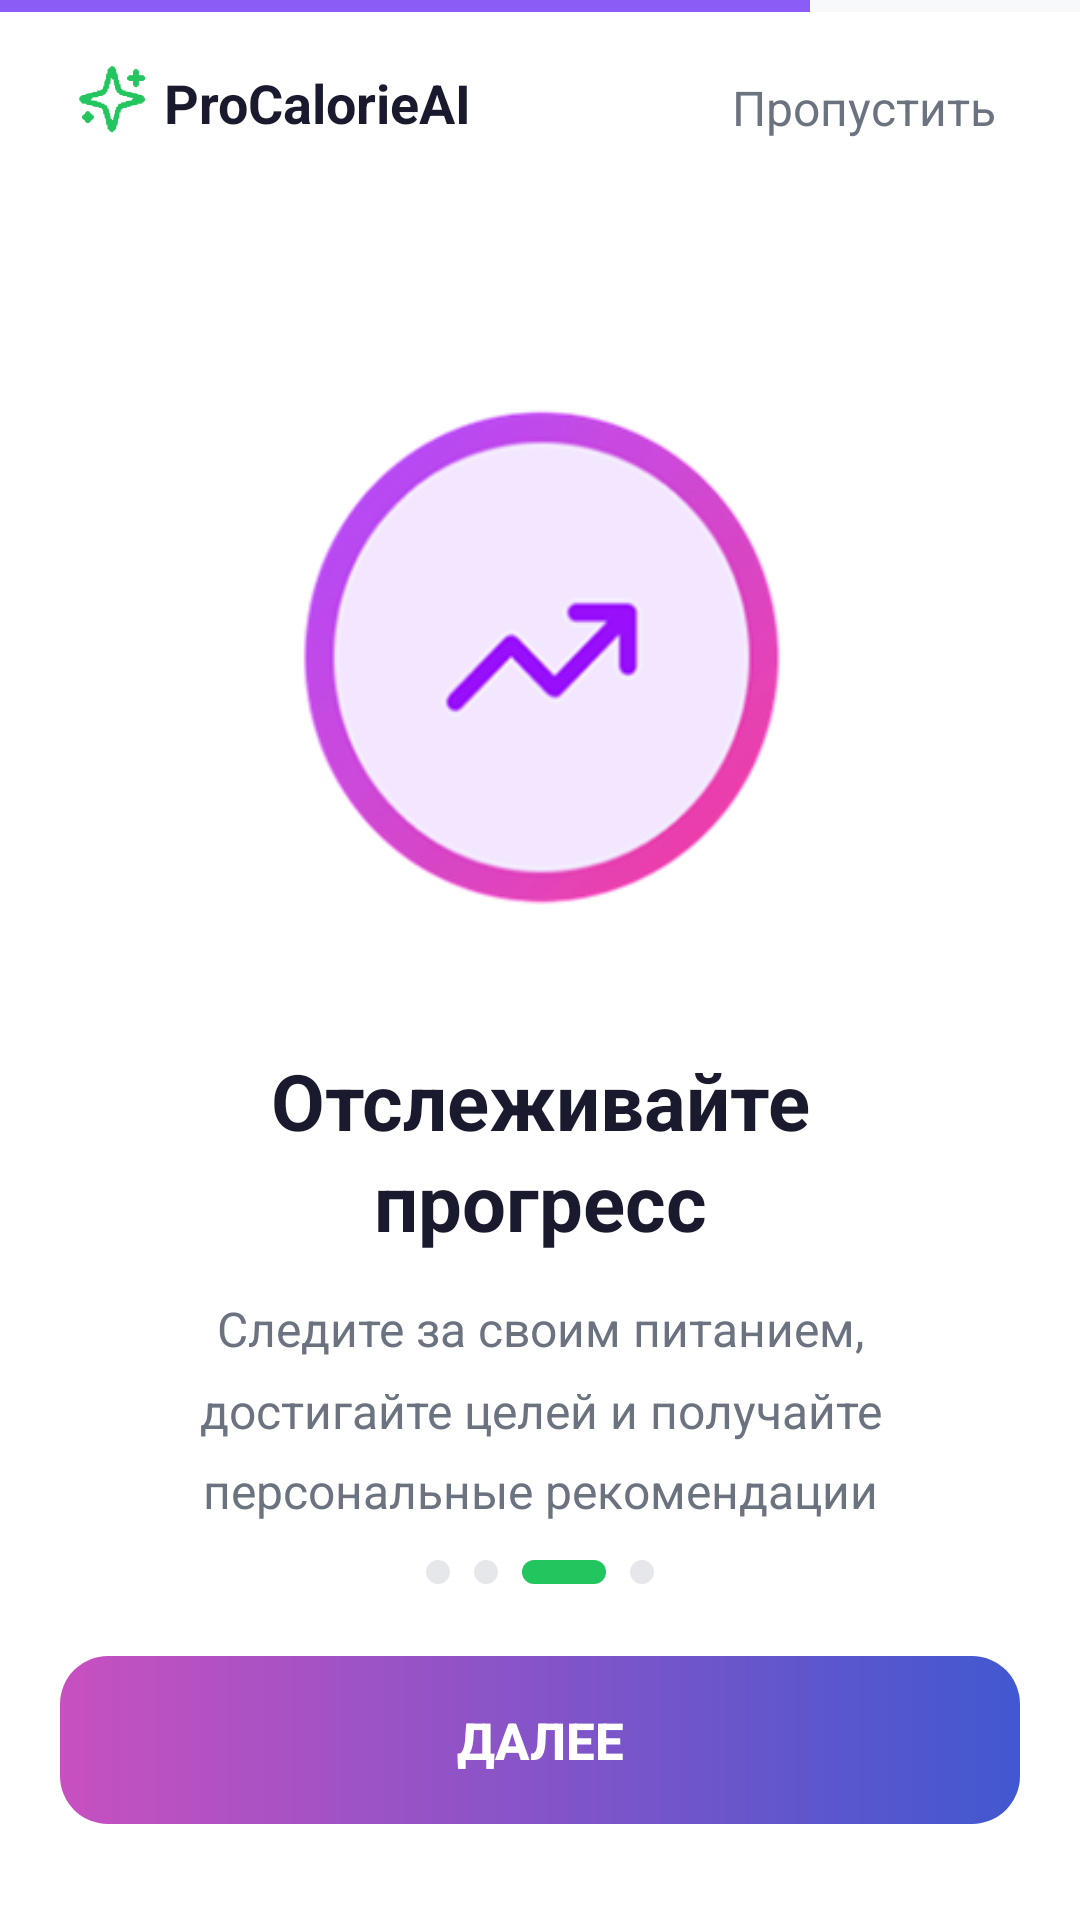

Icon bounding boxes for this 1080 × 1920 phone screenshot, format bbox=[x1, y1, x2, y2]:
star: bbox=[79, 66, 145, 133]
